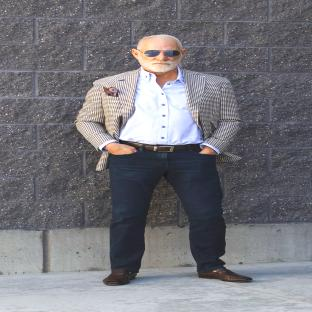Human: (76, 34, 251, 285)
